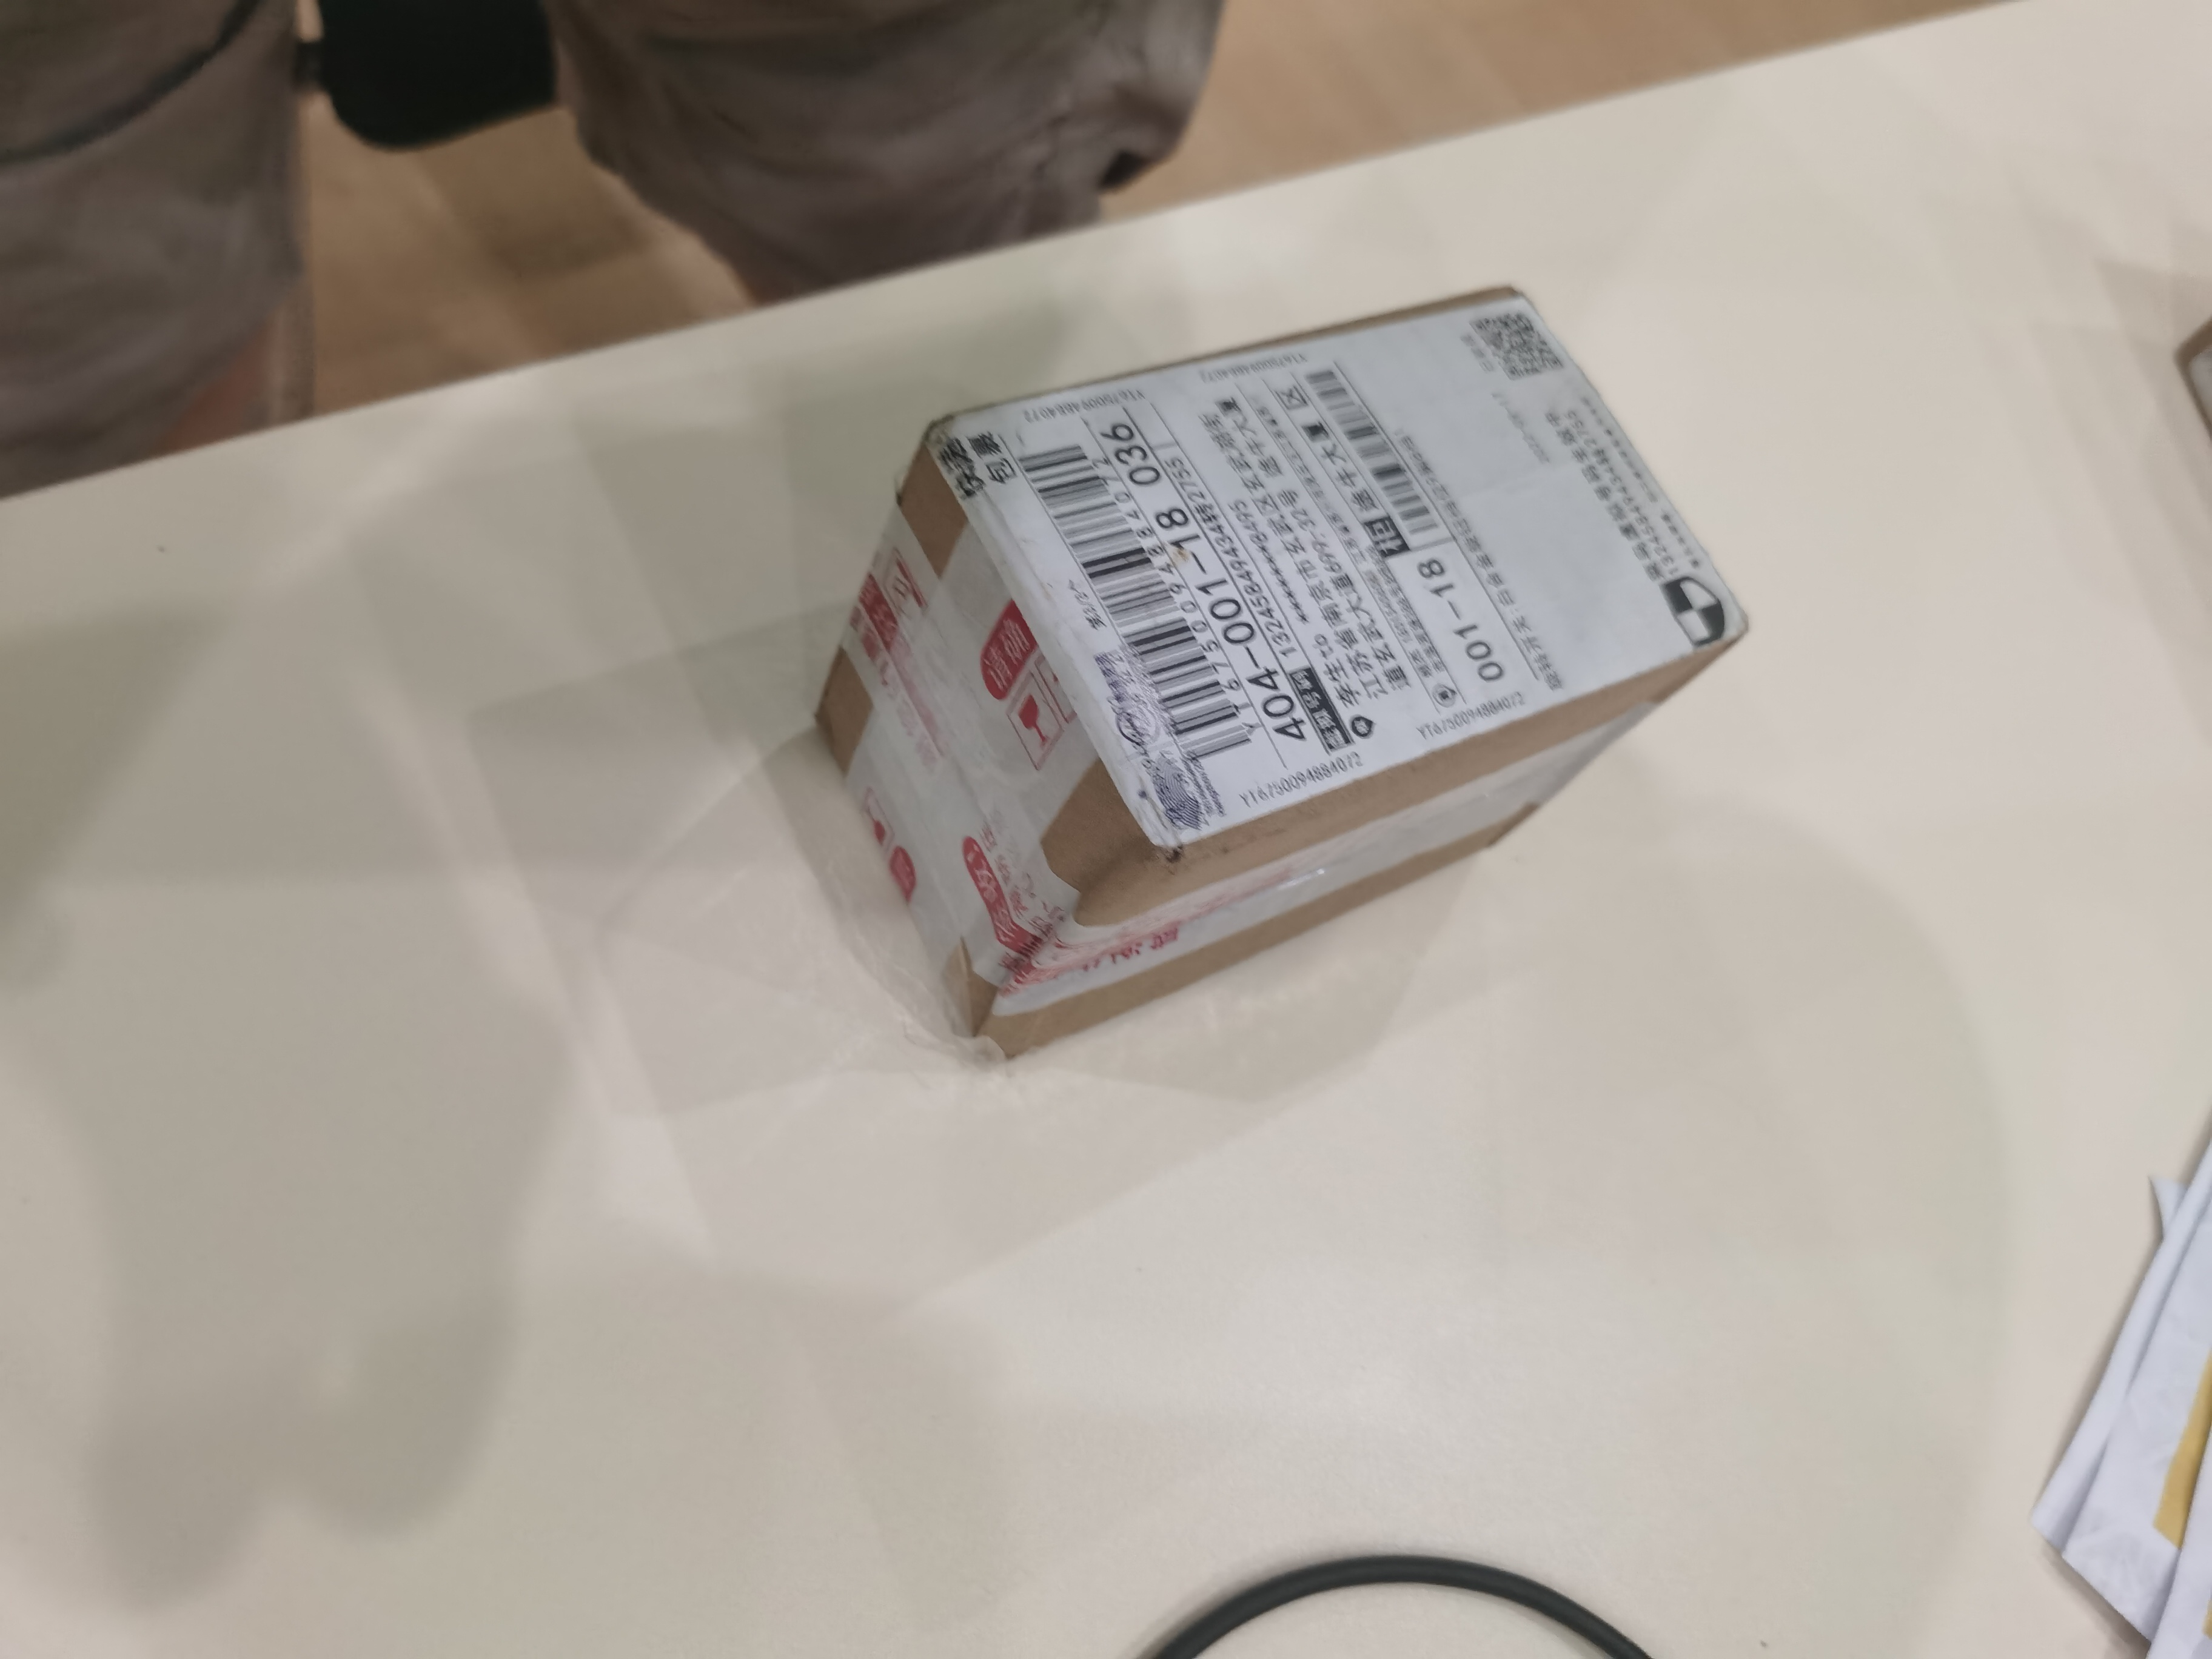box: (732, 267, 1761, 1112)
